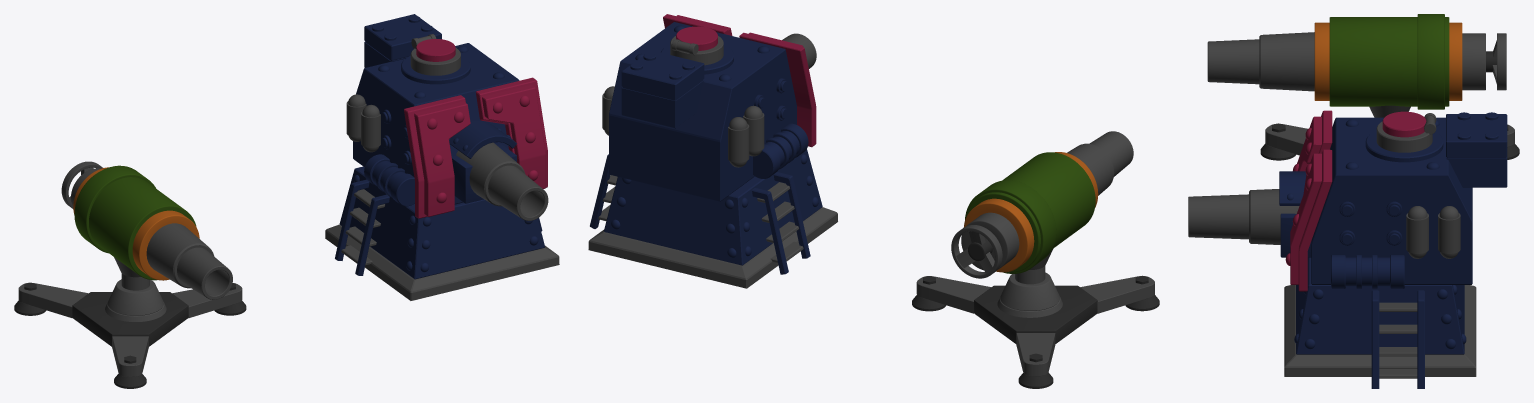
File: Cannons_max2014.fbx
3 renders of one model, left to right at view 1: azimuth 30°, elevation 25°; view 2: azimuth 150°, elevation 25°; view 3: azimuth 270°, elevation 25°, orthographic. The views are drawn at different scales.
Visible parts, largest first — view 1: Box005, Object011, Box006, Cylinder077, Object013, Object019, Cylinder063, Object007, Cylinder011, Box008, Cylinder058, Cylinder059 (+16 smaller); view 2: Box006, Box005, Cylinder077, Object013, Box008, Object019, Cylinder063, Object007, Cylinder067, Cylinder062, Cylinder079, Cylinder065 (+14 smaller); view 3: Box006, Box005, Cylinder077, Object013, Box008, Cylinder058, Cylinder079, Cylinder011, Cylinder062, Cylinder059, Object011, Object007 (+19 smaller).
Part boxes in pixels (left/top/right/bottom): Box005: left=339, top=166, right=544, bottom=279; Object011: left=414, top=85, right=545, bottom=216; Box006: left=353, top=43, right=519, bottom=204; Cylinder077: left=77, top=175, right=196, bottom=280; Object013: left=325, top=224, right=559, bottom=300; Object019: left=18, top=282, right=242, bottom=376; Cylinder063: left=72, top=292, right=188, bottom=346; Object007: left=404, top=77, right=547, bottom=218; Cylinder011: left=488, top=165, right=548, bottom=220; Box008: left=364, top=14, right=441, bottom=67; Cylinder058: left=146, top=223, right=214, bottom=288; Cylinder059: left=177, top=247, right=232, bottom=299; Box006: left=609, top=22, right=796, bottom=201; Box005: left=604, top=149, right=822, bottom=265; Cylinder077: left=966, top=152, right=1095, bottom=272; Object013: left=588, top=207, right=837, bottom=288; Box008: left=621, top=50, right=704, bottom=128; Object019: left=916, top=276, right=1154, bottom=376; Cylinder063: left=974, top=285, right=1097, bottom=343; Object007: left=663, top=14, right=816, bottom=147; Cylinder067: left=997, top=272, right=1062, bottom=317; Cylinder062: left=963, top=152, right=1098, bottom=272; Cylinder079: left=965, top=180, right=1056, bottom=273; Cylinder065: left=961, top=212, right=1019, bottom=270; Box006: left=1311, top=117, right=1472, bottom=284; Box005: left=1296, top=257, right=1464, bottom=354; Cylinder077: left=1329, top=17, right=1449, bottom=106; Object013: left=1284, top=285, right=1476, bottom=376; Box008: left=1446, top=114, right=1507, bottom=187; Cylinder058: left=1259, top=32, right=1314, bottom=91; Cylinder079: left=1417, top=14, right=1444, bottom=109; Cylinder011: left=1188, top=194, right=1248, bottom=239; Cylinder062: left=1314, top=22, right=1462, bottom=100; Cylinder059: left=1207, top=39, right=1259, bottom=84; Object011: left=1290, top=116, right=1321, bottom=284; Object007: left=1298, top=110, right=1332, bottom=291.
Size of the model in its own units: 608 by 257 by 334.
